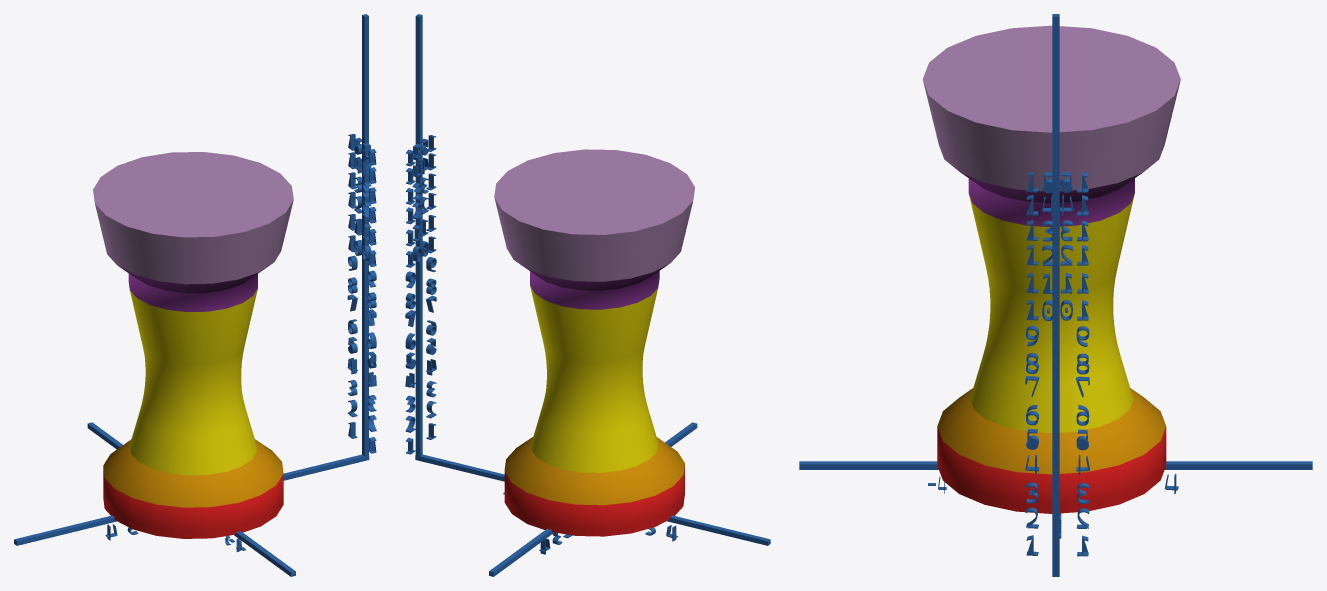
Rendered from torre2.0.fbx.
3 renders of one model, left to right at view 1: azimuth 30°, elevation 25°; view 2: azimuth 150°, elevation 25°; view 3: azimuth 270°, elevation 25°, orthographic. The views are drawn at different scales.
Parts seen in each view (by area): view 1: pasted__pasted__pCylinder1, pasted__pCube1 (×2), pCube1; view 2: pasted__pasted__pCylinder1, pasted__pCube1 (×2), pCube1; view 3: pasted__pasted__pCylinder1, pasted__pCube1 (×2).
Boxes of the visible parts, box(x1,y1,x2,y2) form: pasted__pasted__pCylinder1: box(93, 152, 293, 538); pasted__pCube1 (×2): box(87, 14, 368, 576); pCube1: box(14, 454, 369, 545); pasted__pasted__pCylinder1: box(494, 149, 694, 536); pasted__pCube1 (×2): box(415, 14, 697, 576); pCube1: box(415, 454, 770, 545); pasted__pasted__pCylinder1: box(922, 25, 1180, 513); pasted__pCube1 (×2): box(799, 14, 1312, 571).
Bounding box in the file's own units: 18.03 × 22.61 × 18.03.
